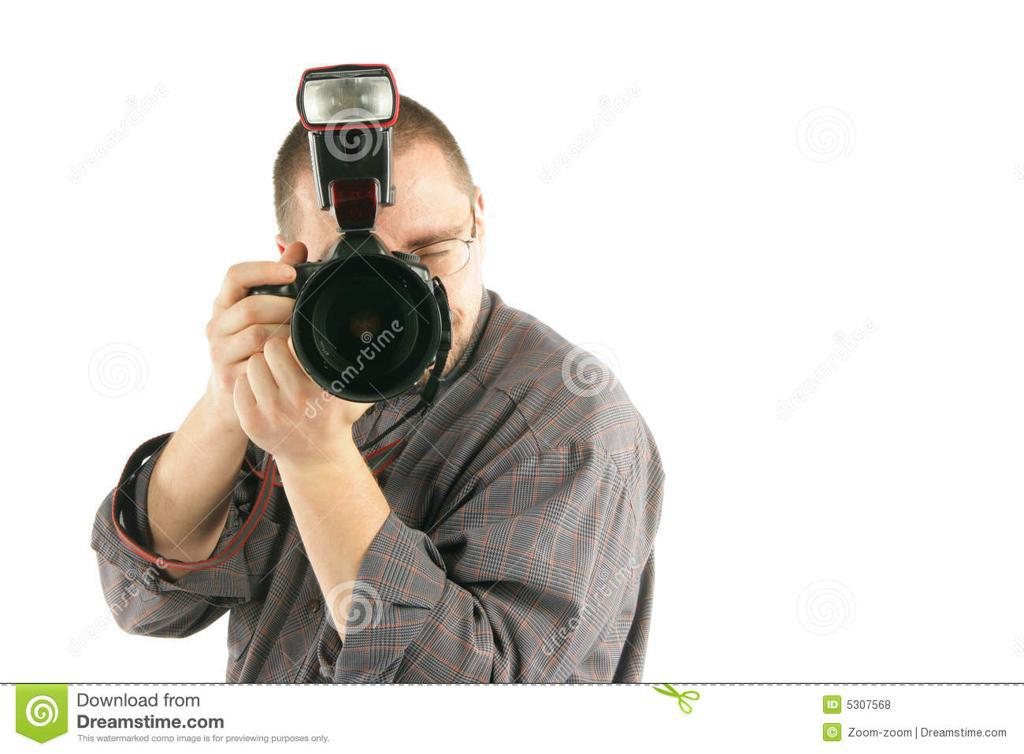face: (301, 123, 473, 395)
